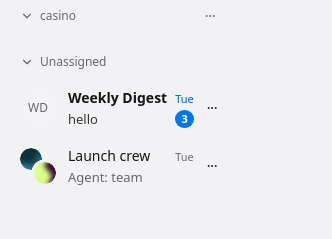
Scenario: clear history › is offered on DMs only
Expected: the text "Weekly Digest" is shown, x1=68 y1=88 x2=167 y2=108
Step 1. Click the button named "More for Launch crew" → click(212, 166), box x1=200 y1=154 x2=224 y2=178
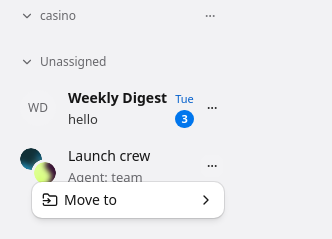
Expected: the menu item "Clear history" is not shown
Now the menu item "Move to" is shown, box x1=36 y1=186 x2=220 y2=214
Step 2. Press Escape
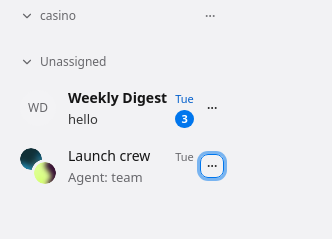
Step 3. Click the button named "More for Weekly Digest" → click(212, 108), box x1=200 y1=96 x2=224 y2=120
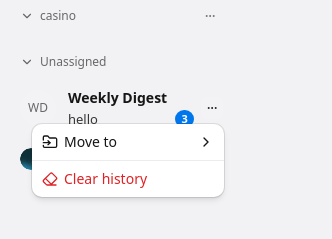
Now the menu item "Clear history" is shown, box x1=42 y1=169 x2=147 y2=188
